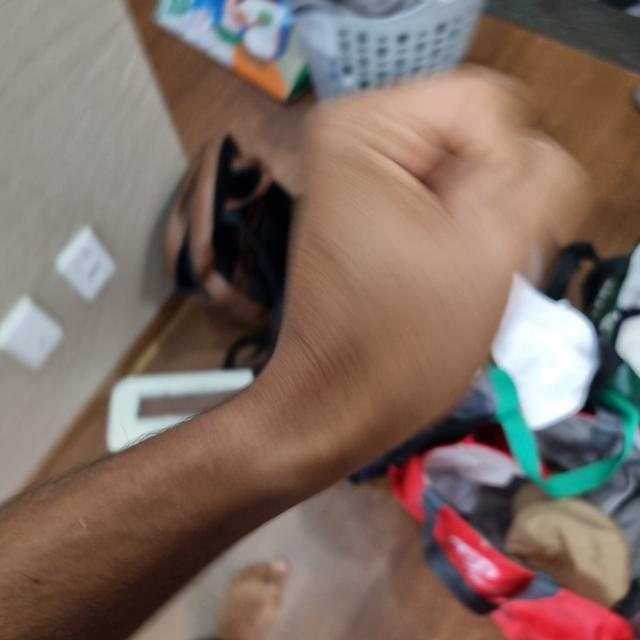Rock: (255, 72, 579, 472)
